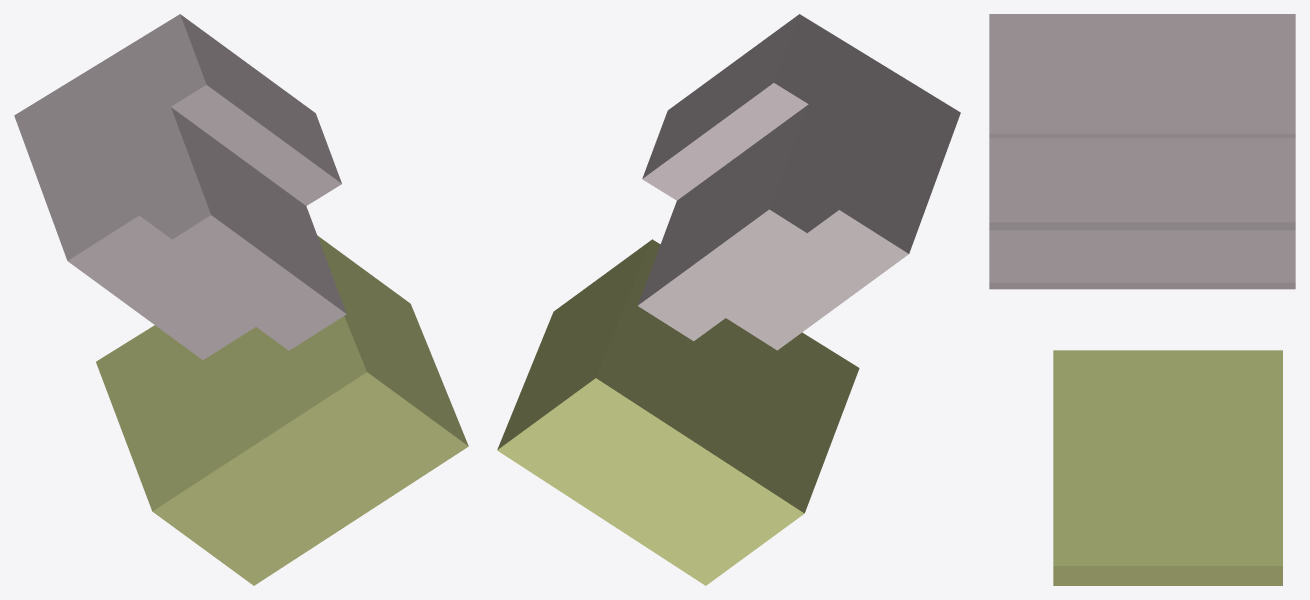
3 renders of one model, left to right at view 1: azimuth 30°, elevation 25°; view 2: azimuth 150°, elevation 25°; view 3: azimuth 270°, elevation 25°, orthographic. The views are drawn at different scales.
Parts seen in each view (by area): view 1: 0_1_0_2_0_2_0_2_0_3; view 2: 0_1_0_2_0_2_0_2_0_3; view 3: 0_1_0_2_0_2_0_2_0_3.
Part boxes in pixels (x1=…): 0_1_0_2_0_2_0_2_0_3: x1=14, y1=14, x2=468, y2=585; 0_1_0_2_0_2_0_2_0_3: x1=497, y1=14, x2=960, y2=585; 0_1_0_2_0_2_0_2_0_3: x1=989, y1=14, x2=1295, y2=585.
Size of the model in its own units: 17.74 by 23.69 by 12.
